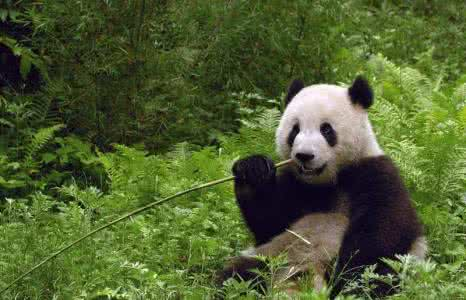panda: (210, 71, 431, 300)
